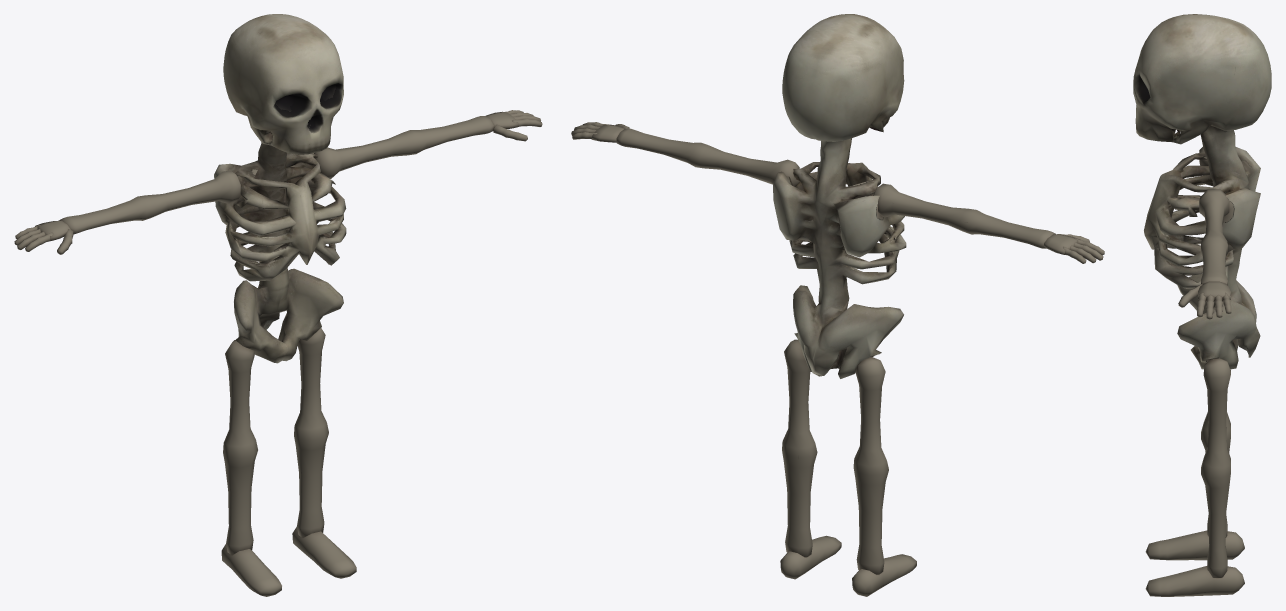
File: Skeleton_LowPoly.fbx
3 renders of one model, left to right at view 1: azimuth 30°, elevation 25°; view 2: azimuth 150°, elevation 25°; view 3: azimuth 270°, elevation 25°, orthographic.
Visible parts, largest first — view 1: Skeleton_LowPoly; view 2: Skeleton_LowPoly; view 3: Skeleton_LowPoly.
Part boxes in pixels (x1=…): Skeleton_LowPoly: x1=14, y1=14, x2=542, y2=596; Skeleton_LowPoly: x1=571, y1=14, x2=1104, y2=596; Skeleton_LowPoly: x1=1133, y1=14, x2=1271, y2=596.
Size of the model in its own units: 1.99 by 1.99 by 0.4503.
Materials: 1 (1 with a texture image).
